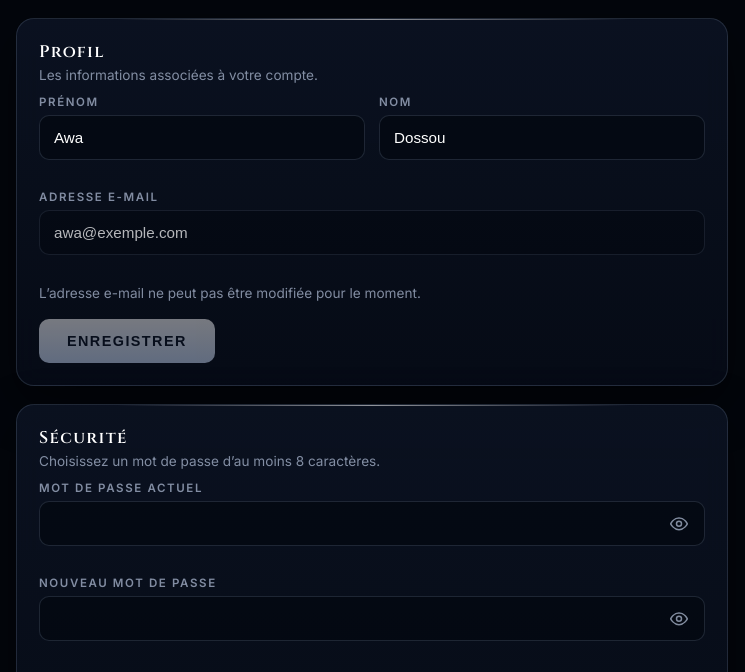
Scenario: Settings : mot de passe › refuse des mots de passe différents sans appeler l’API
Check: the field showing "Awa" is shown, box x1=39 y1=115 x2=365 y2=160
In the password field labelled "Mot de passe actuel": [372, 524] box x1=39 y1=501 x2=705 y2=546, type "ancien123"
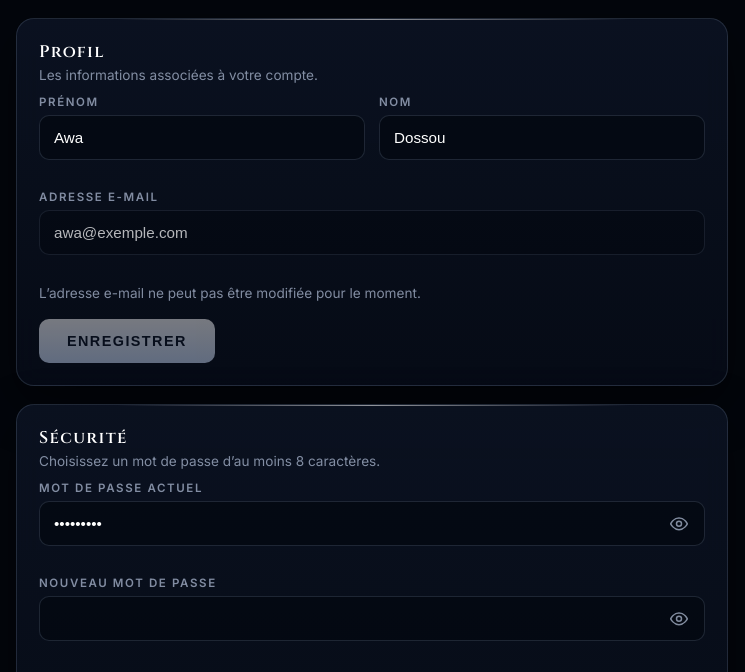
In the password field labelled "Nouveau mot de passe": [372, 618] box x1=39 y1=596 x2=705 y2=641, type "nouveau456"
(page scrolled)
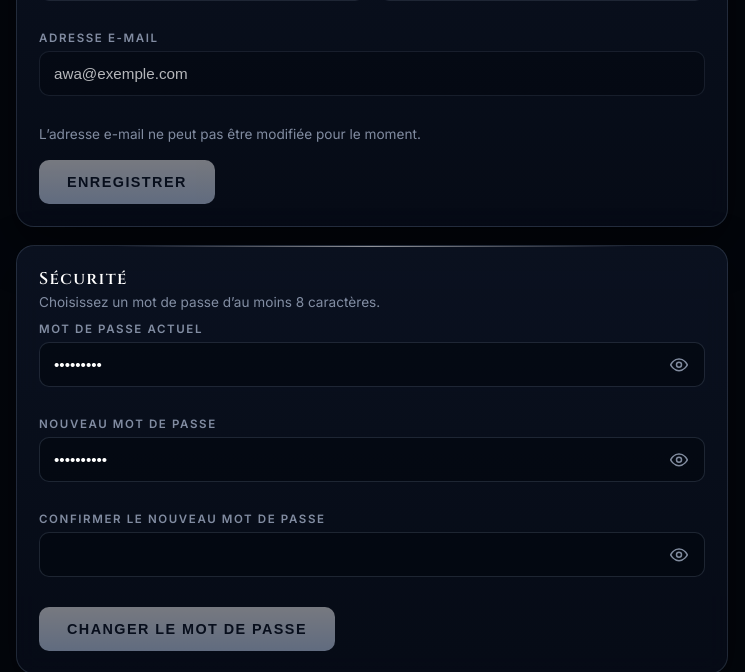
In the password field labelled "Confirmer le nouveau mot de passe": [372, 554] box x1=39 y1=532 x2=705 y2=577, type "autre7890"
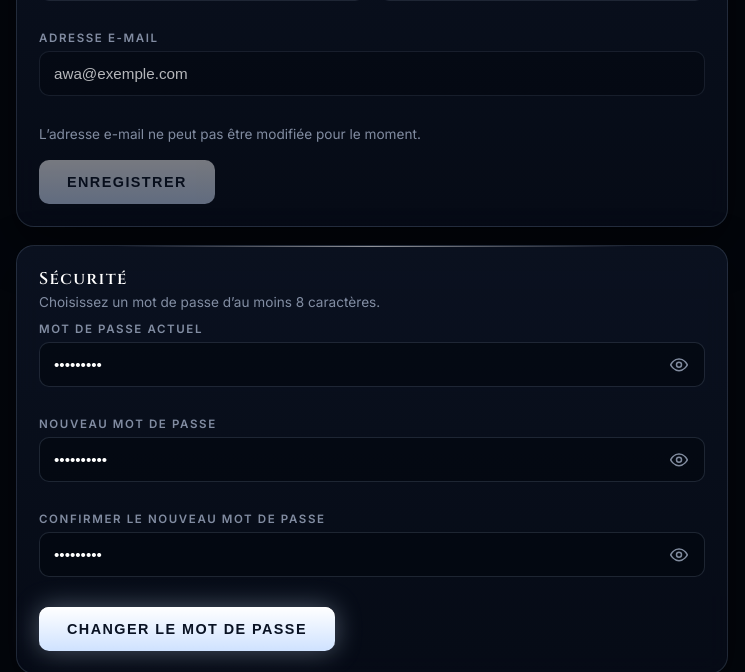
Click the button "Changer le mot de passe": [187, 629] box x1=39 y1=607 x2=335 y2=651
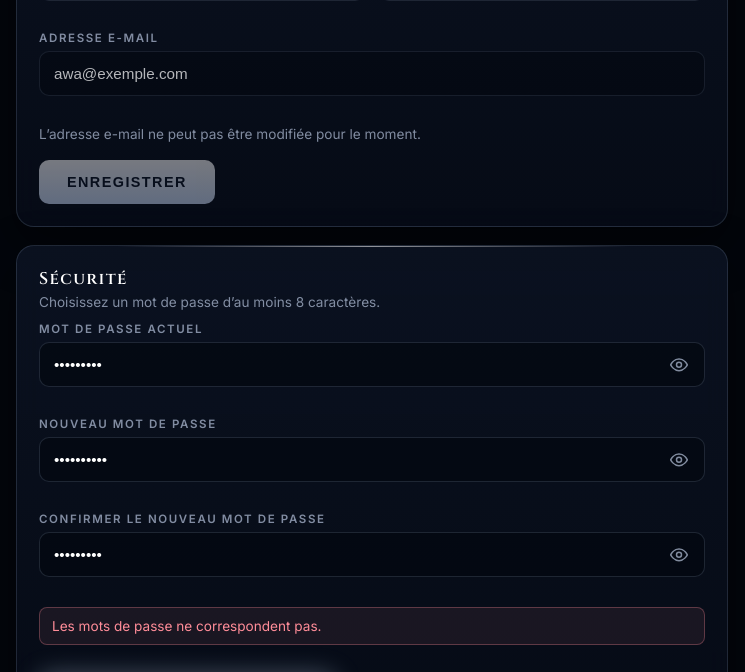
Check: the message reads "Les mots de passe ne correspondent pas.", box x1=52 y1=618 x2=322 y2=634
